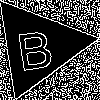B: (13, 21, 56, 71)
